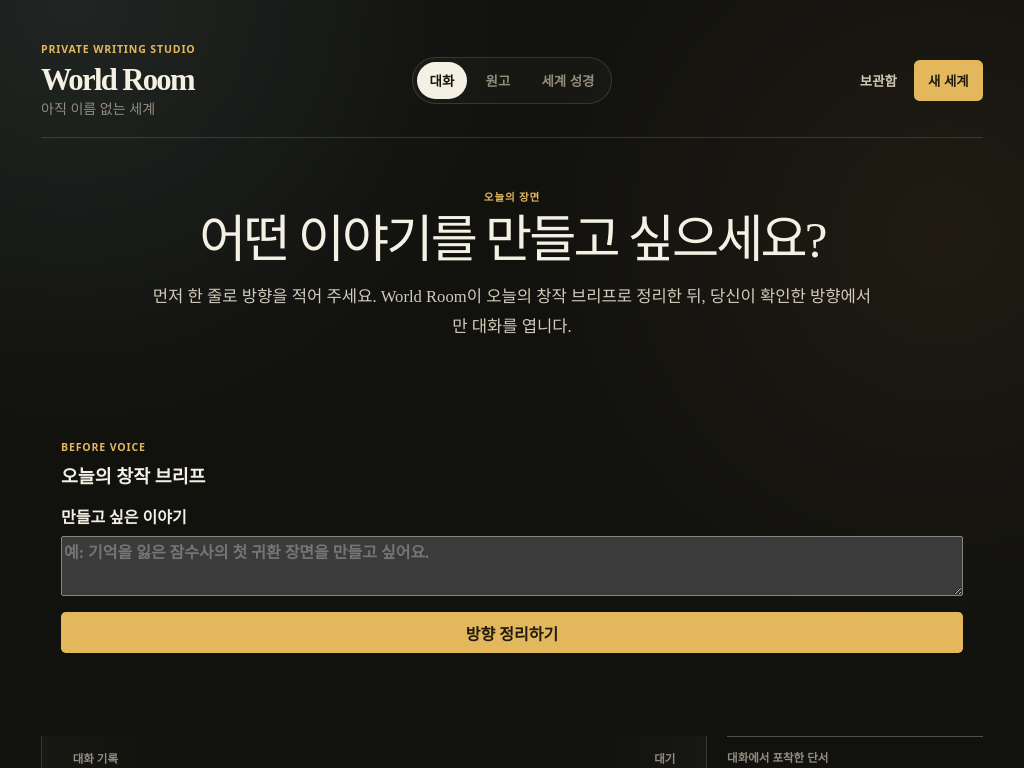
Test: World Room 앱 › 이어 보던 세계에서 새 세계를 열면 이전 세계 연결과 세션 기록을 비운다
Click the button "보관함".
click(878, 80)  # box [849,60,908,101]
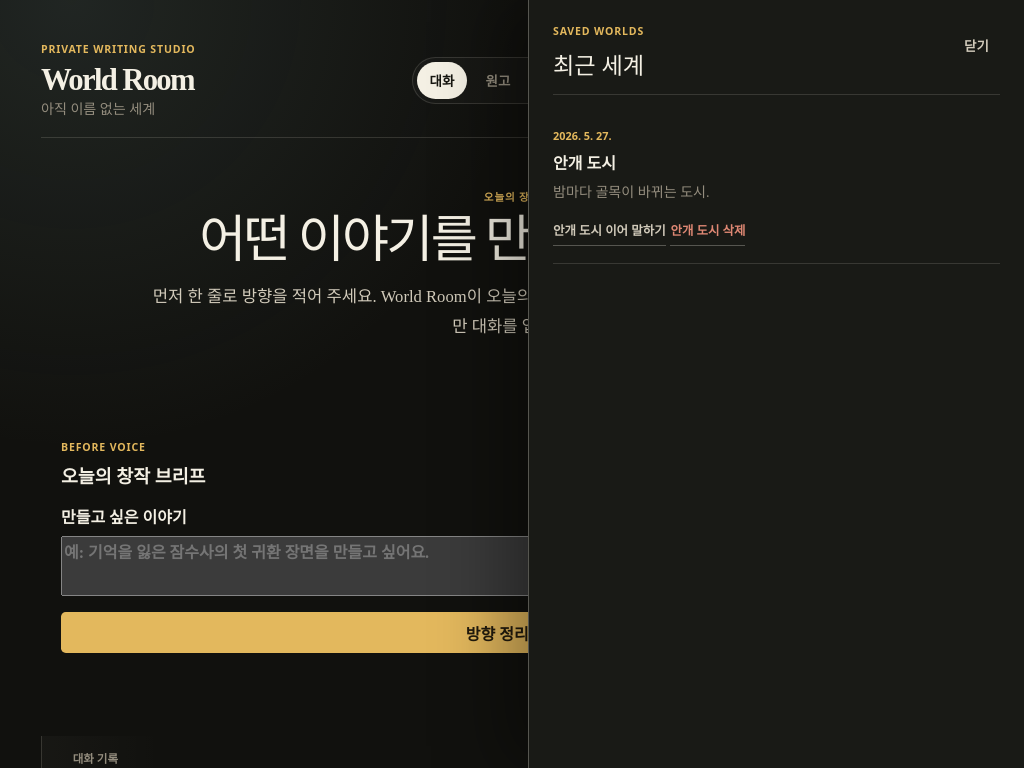
Click the button "안개 도시 이어 말하기".
click(609, 230)  # box [553,215,666,246]
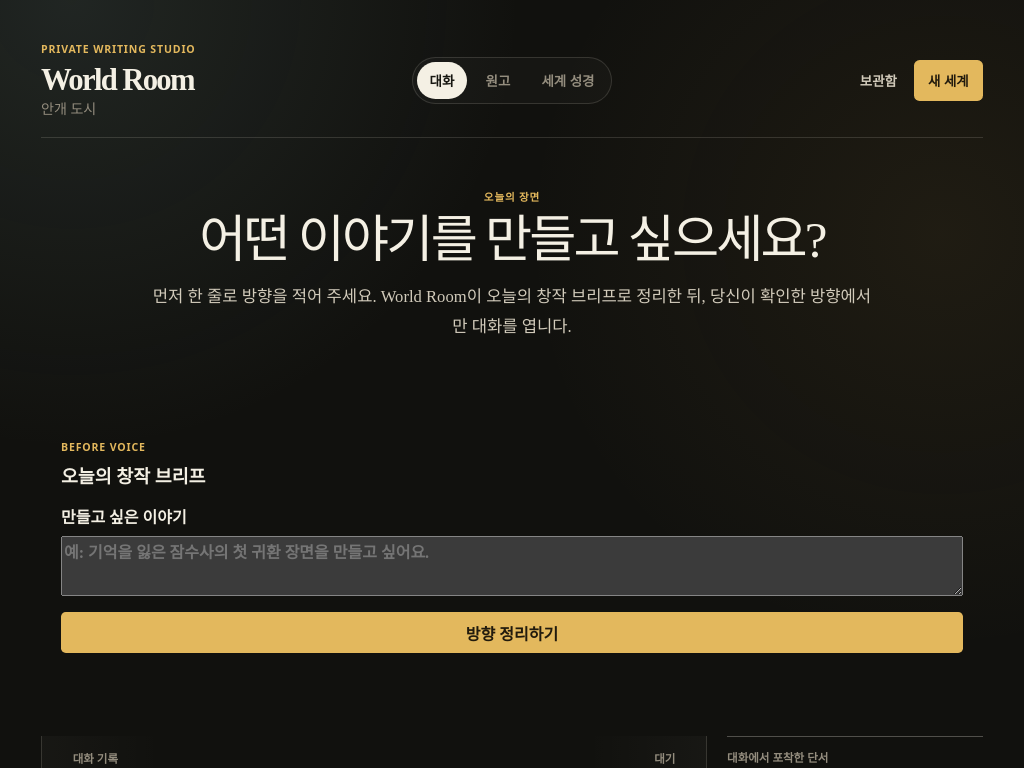
Expected: the text "안개 도시" is shown, [41,101,96,117]
Click the button "새 세계".
click(948, 80)  # box [914,60,983,101]
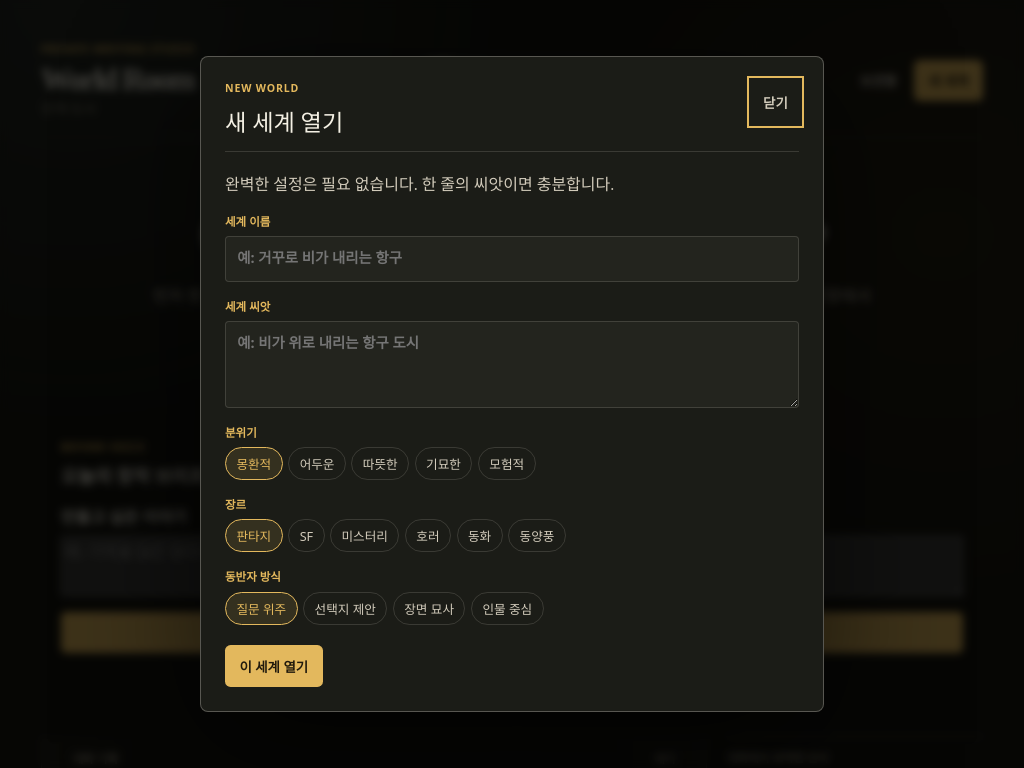
Expected: the field labelled "세계 이름" is empty
Type "유리 바다" into the field labelled "세계 이름".
click(512, 259); type("유리 바다")  # box [225,236,799,282]
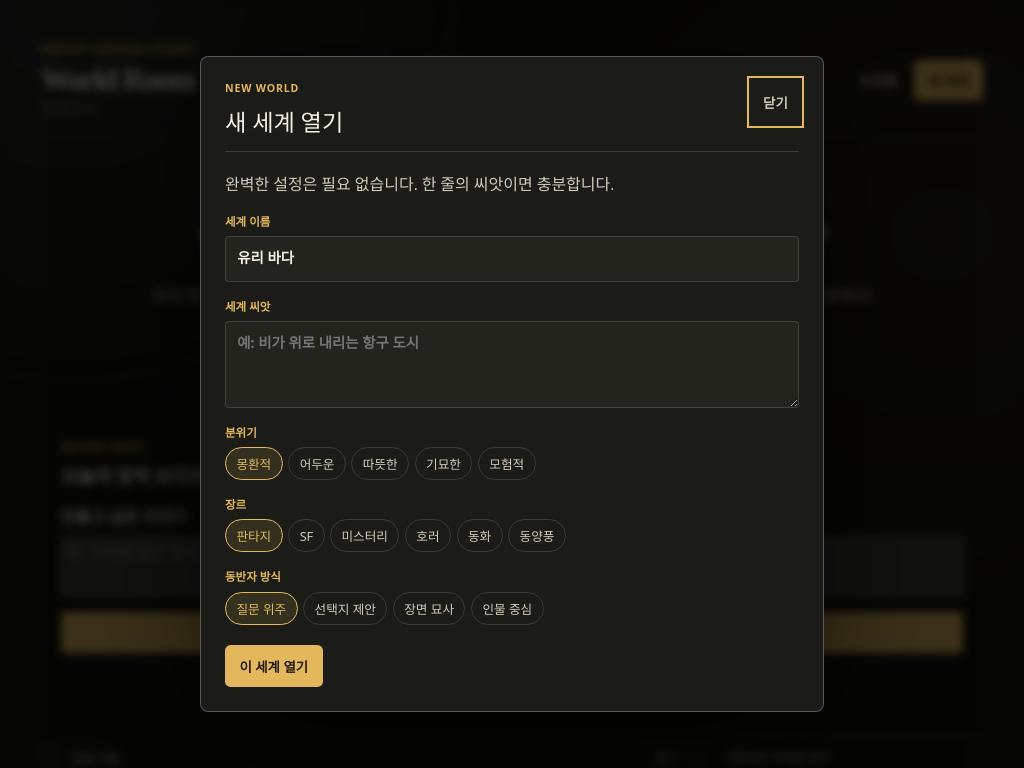
Type "파도 아래 도서관" into the text box labelled "세계 씨앗".
click(512, 364); type("파도 아래 도서관")  # box [225,321,799,408]
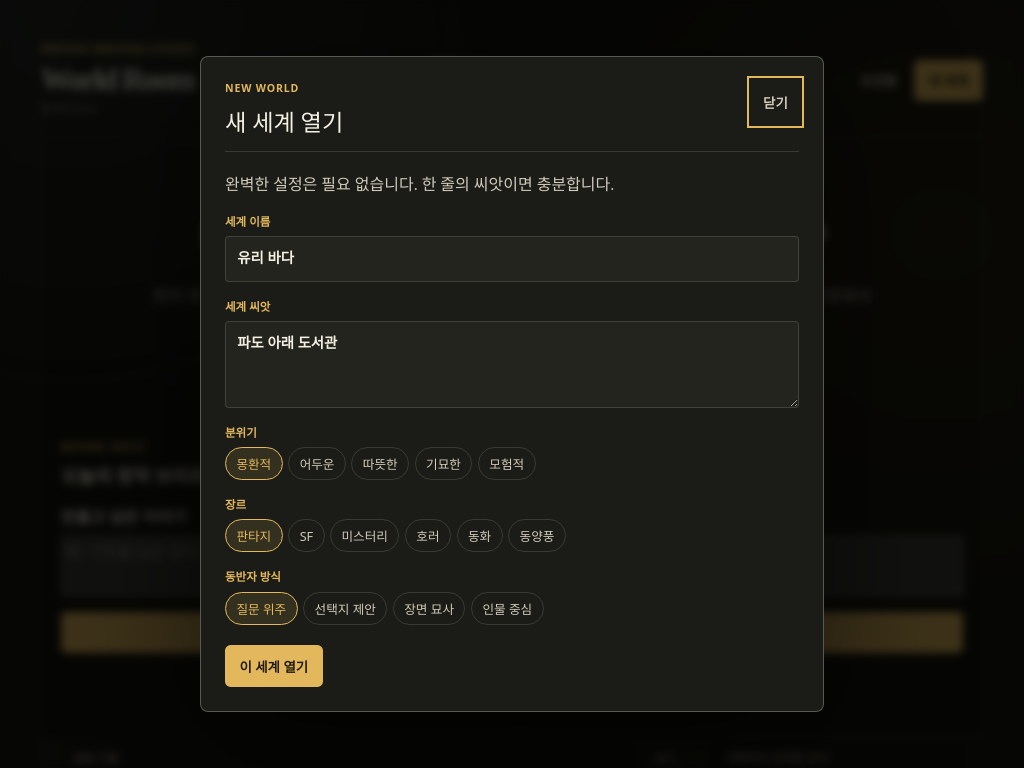
Click the button "이 세계 열기".
click(274, 666)  # box [225,646,323,687]
(page scrolled)
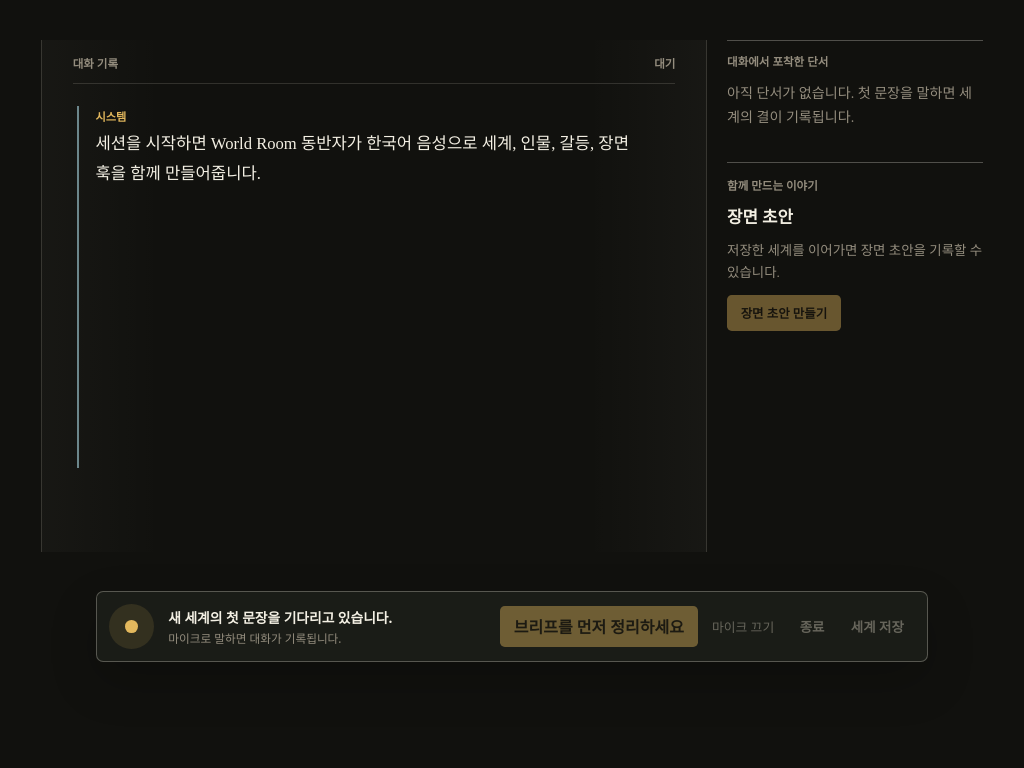
Expected: the button "세계 저장" is disabled, [840,605,915,647]
Expected: the heading "새 세계 열기" is gone
Expected: the text "안개 도시" is gone
